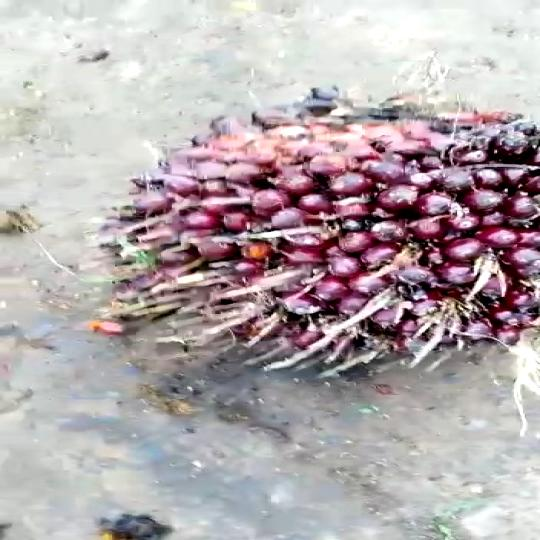kurang masak: (89, 59, 540, 388)
